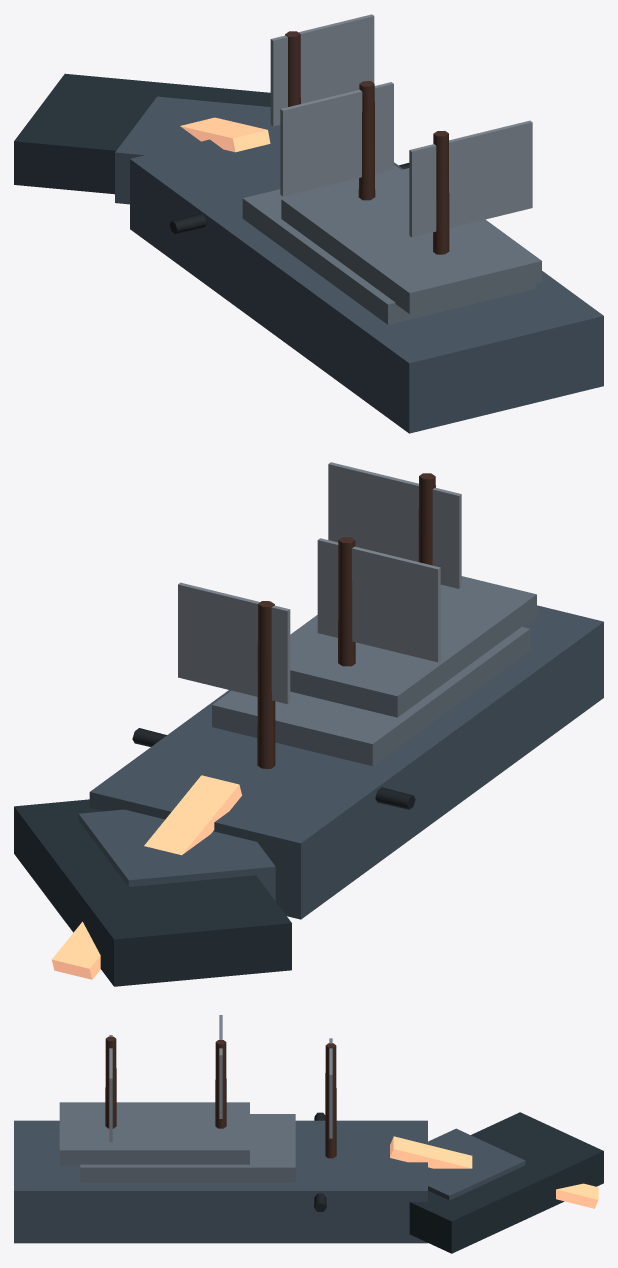
Rendered from ship_main_58_lod1.glb.
3 views of the same model, one above another, from view 1: azimuth 30°, elevation 25°; view 2: azimuth 150°, elevation 25°; view 3: azimuth 270°, elevation 25° (orthographic). The views are drawn at different scales.
Visible parts, largest first — view 1: Hull, Deck_1, WedgeRam, Sail_2, Sail_1, Sail_0, Deck_0, Bow, ProwIdentity, Mast_2, Mast_1, Mast_0; view 2: Hull, WedgeRam, Deck_1, Deck_0, Sail_1, Sail_2, Sail_0, Bow, ProwIdentity, Mast_0, Mast_1, Mast_2; view 3: Hull, WedgeRam, Deck_1, Deck_0, Bow, ProwIdentity, Mast_0, Mast_2, Mast_1, Sail_0, Sail_2, Sail_1.
Boxes of the visible parts, left/top/right/bottom form: Hull: left=130, top=124, right=603, bottom=433; Deck_1: left=281, top=168, right=541, bottom=314; WedgeRam: left=14, top=73, right=270, bottom=194; Sail_2: left=409, top=120, right=532, bottom=237; Sail_1: left=280, top=82, right=393, bottom=196; Sail_0: left=270, top=14, right=374, bottom=126; Deck_0: left=242, top=165, right=535, bottom=324; Bow: left=115, top=96, right=270, bottom=204; ProwIdentity: left=180, top=117, right=270, bottom=152; Mast_2: left=433, top=131, right=449, bottom=254; Mast_1: left=358, top=81, right=375, bottom=200; Mast_0: left=285, top=31, right=300, bottom=106; Hull: left=89, top=605, right=603, bottom=919; WedgeRam: left=14, top=799, right=291, bottom=986; Deck_1: left=290, top=576, right=536, bottom=717; Deck_0: left=212, top=627, right=530, bottom=766; Sail_1: left=317, top=538, right=440, bottom=662; Sail_2: left=328, top=462, right=461, bottom=588; Sail_0: left=178, top=582, right=290, bottom=704; Bow: left=78, top=809, right=275, bottom=900; ProwIdentity: left=51, top=775, right=241, bottom=979; Mast_0: left=257, top=601, right=275, bottom=768; Mast_1: left=338, top=537, right=355, bottom=666; Mast_2: left=418, top=473, right=435, bottom=565; Hull: left=14, top=1120, right=427, bottom=1243; WedgeRam: left=409, top=1112, right=603, bottom=1253; Deck_1: left=59, top=1102, right=249, bottom=1165; Deck_0: left=80, top=1114, right=295, bottom=1182; Bow: left=428, top=1128, right=525, bottom=1200; ProwIdentity: left=390, top=1136, right=598, bottom=1208; Mast_0: left=325, top=1043, right=336, bottom=1158; Mast_2: left=105, top=1036, right=116, bottom=1128; Mast_1: left=215, top=1040, right=226, bottom=1128; Sail_0: left=329, top=1038, right=332, bottom=1138; Sail_2: left=109, top=1035, right=112, bottom=1142; Sail_1: left=219, top=1015, right=222, bottom=1118.
Bounding box in the file's own units: 4.16 × 3 × 9.49.
